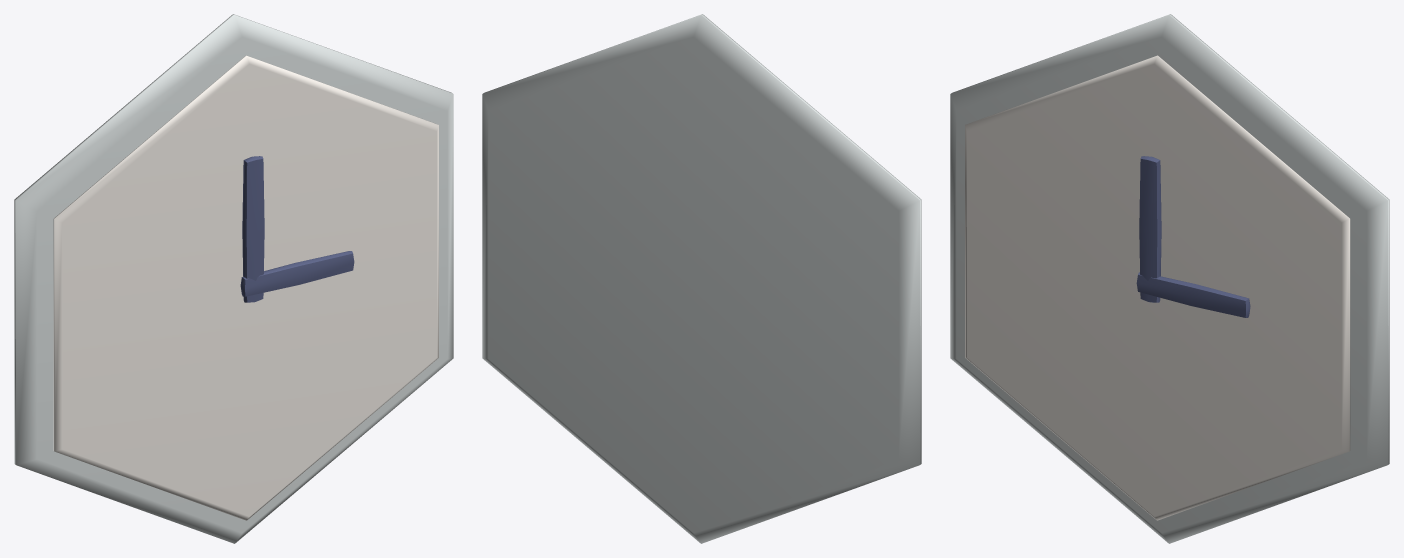
File: wall-clock.glb
3 renders of one model, left to right at view 1: azimuth 30°, elevation 25°; view 2: azimuth 150°, elevation 25°; view 3: azimuth 330°, elevation 25°, orthographic.
Visible parts, largest first — view 1: part (×4); view 2: part; view 3: part (×4).
Part boxes in pixels (box(x1,y1,x2,y2)): part (×4): box(14, 14, 453, 543); part: box(482, 14, 921, 543); part (×4): box(950, 14, 1389, 543).
Bounding box in the file's own units: 0.8539 × 0.986 × 0.106.
1 material, 1 textured.
